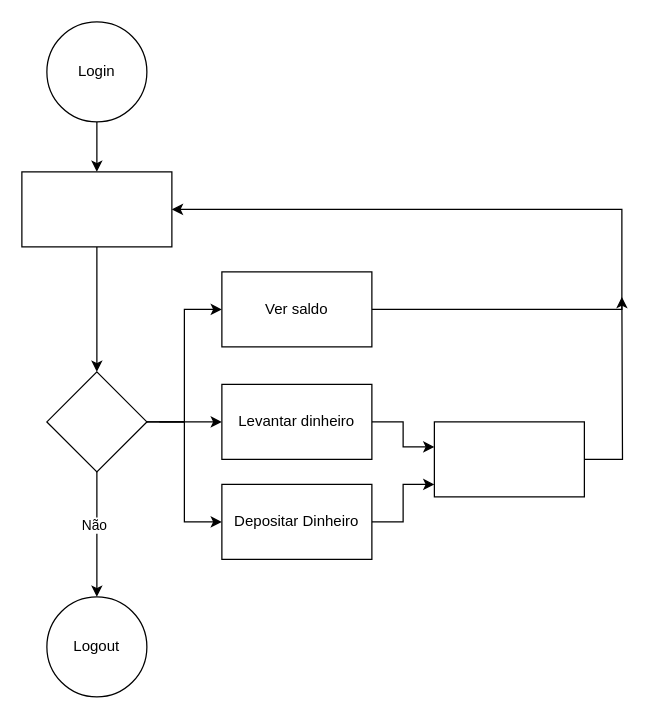
Some shapes in this 655 by 719 pixel diagram are drawn without their labels. The shapes that lost their labels are listed below. From the top down, each one's box as (x1, y1, x2, y2) in pixels, then its label:
(21, 171, 172, 247): Visualizar Menu de Operações
(46, 371, 147, 472): Escolher Operação
(433, 421, 584, 497): Imprimir Ticket
